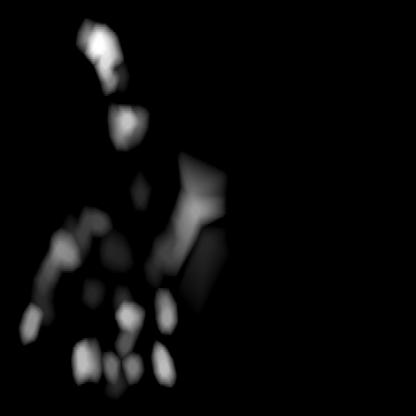fingers: (75, 15, 123, 93)
palm: (18, 280, 175, 386)
thumb: (87, 100, 215, 276)
